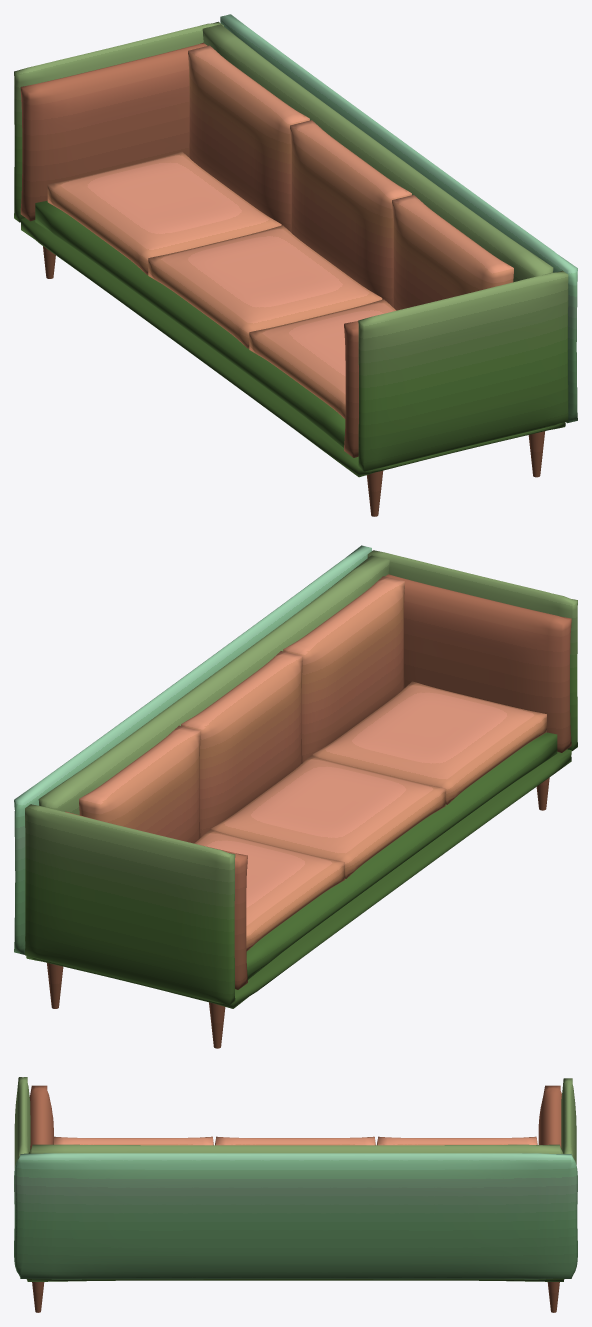
Rendered from couch2.fbx.
The picture shows the model from 3 angles, top to bottom: view 1: azimuth 30°, elevation 25°; view 2: azimuth 150°, elevation 25°; view 3: azimuth 270°, elevation 25°; orthographic projection. The views are drawn at different scales.
Visible parts, largest first — view 1: couch; view 2: couch; view 3: couch.
Part boxes in pixels (x1=…): couch: x1=14, y1=14, x2=577, y2=516; couch: x1=14, y1=545, x2=577, y2=1048; couch: x1=14, y1=1077, x2=577, y2=1312.
Size of the model in its own units: 148 by 133 by 406.
